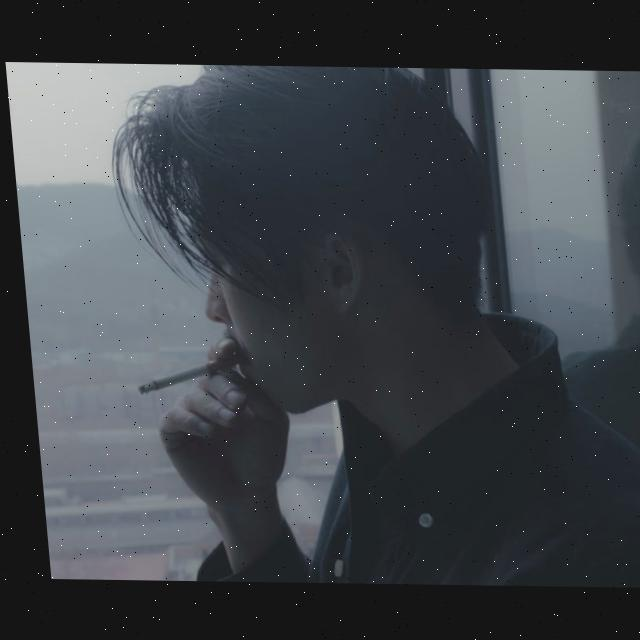cigarette: (129, 353, 239, 394)
